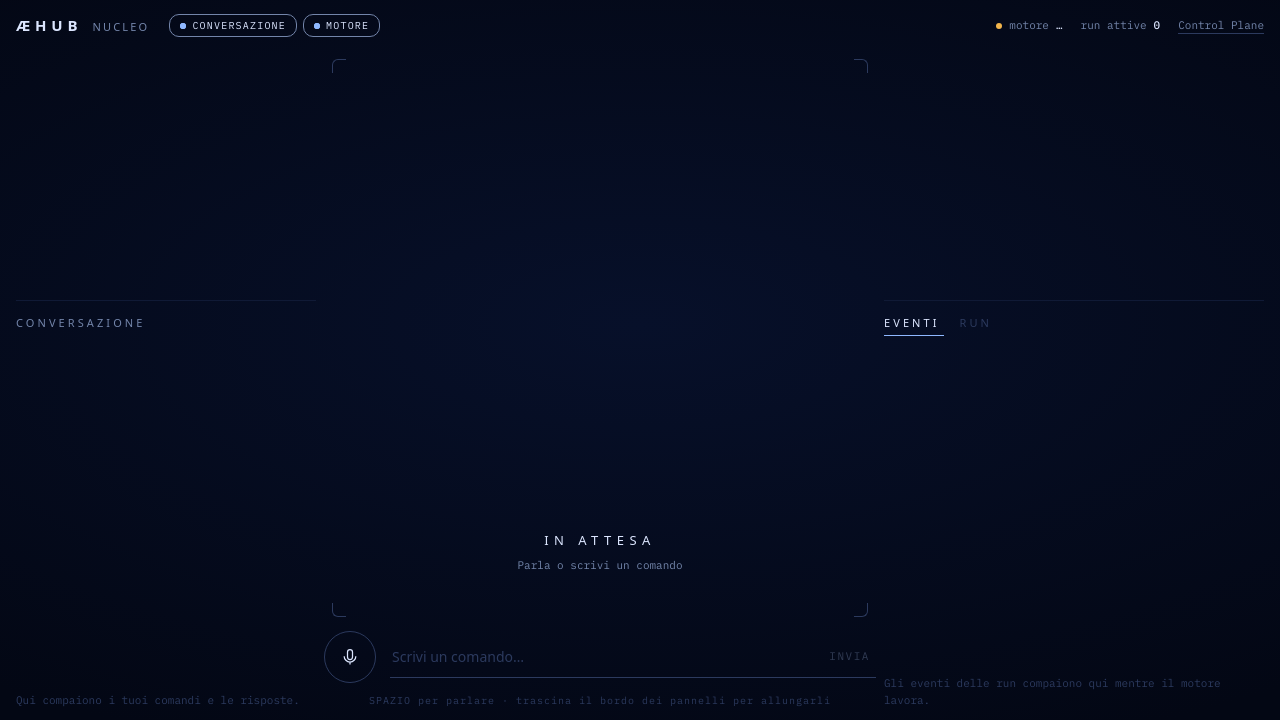
Nucleo › hides a pane and brings it back
The width and height of the screenshot is (1280, 720).
Check: the element with id "nucleo-events" is shown, box [884, 301, 1264, 708]
Click the button "MOTORE" at (342, 26), box [303, 14, 380, 37]
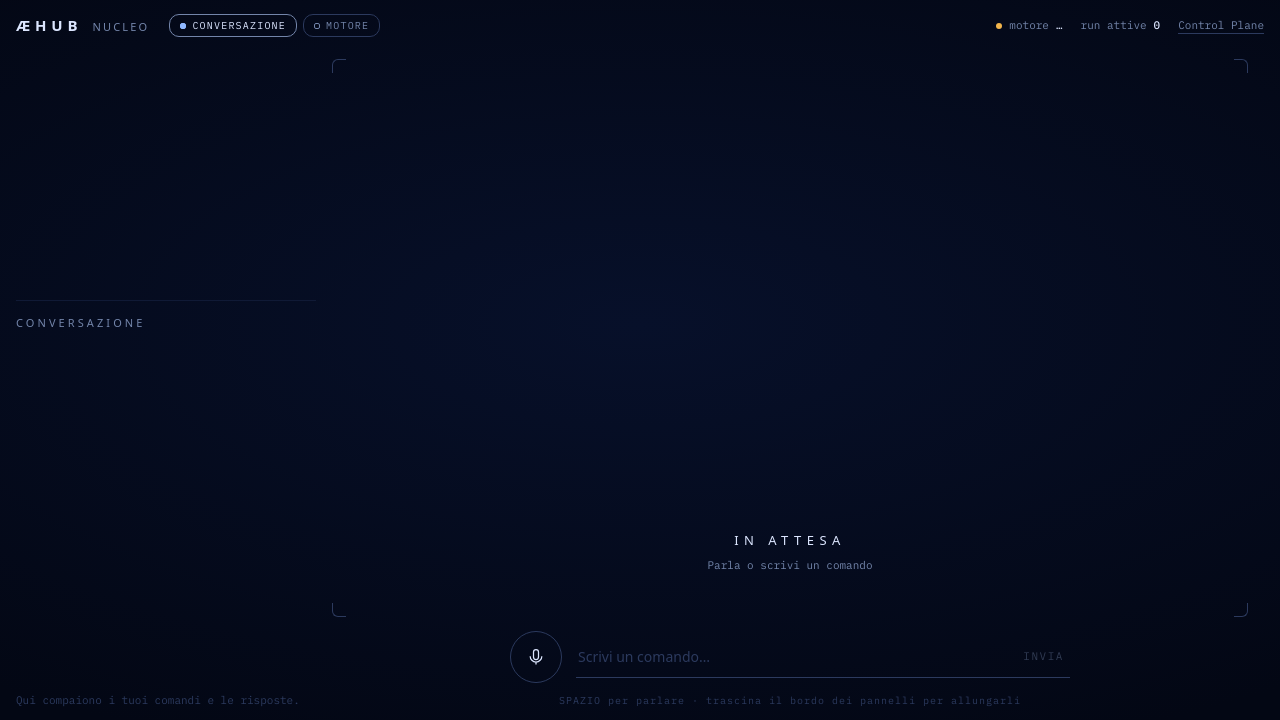
Check: the element with id "nucleo-events" is gone
Click the button "MOTORE" at (342, 26), box [303, 14, 380, 37]
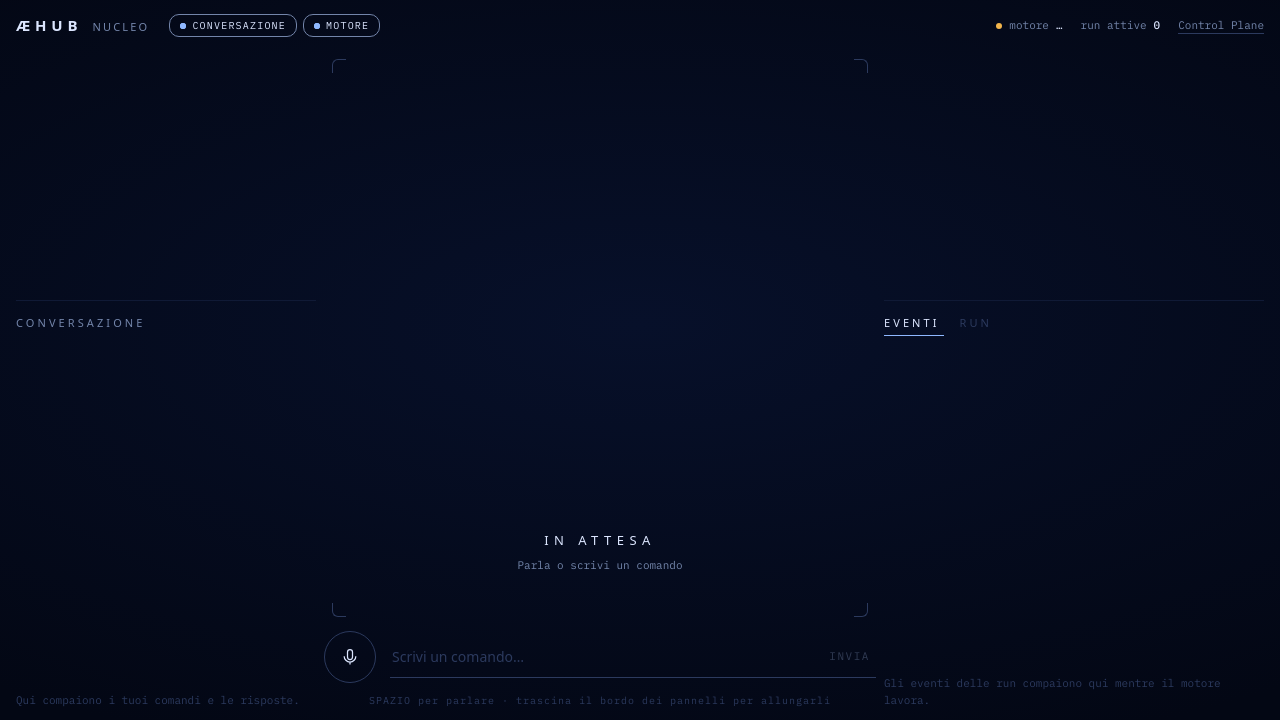
Check: the element with id "nucleo-events" is shown, box [884, 301, 1264, 708]
